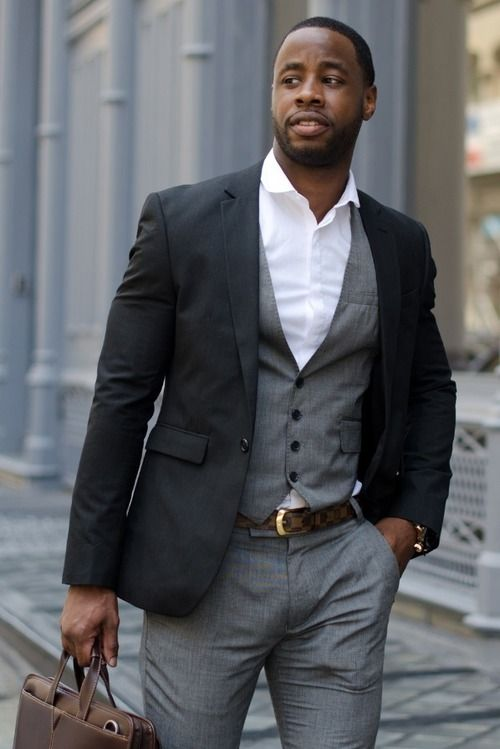F_M_suit jacket: (61, 171, 461, 604)
F_belt: (228, 496, 374, 544)
F_dress pants: (147, 526, 404, 742)
